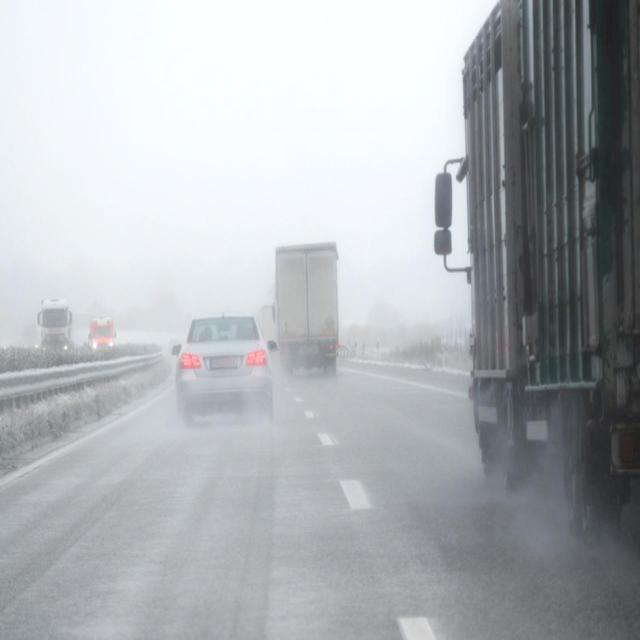Car: (166, 311, 279, 420)
Truck: (433, 0, 640, 560), (270, 240, 341, 376), (37, 296, 72, 352), (88, 317, 116, 353)
